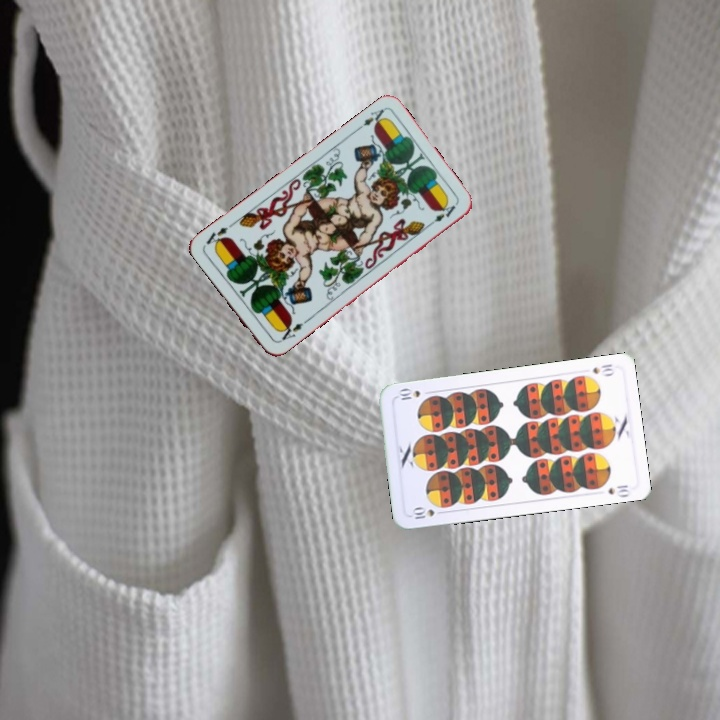EA: (352, 105, 389, 134), (275, 316, 310, 345)
S10: (408, 504, 448, 522), (588, 360, 617, 378)
